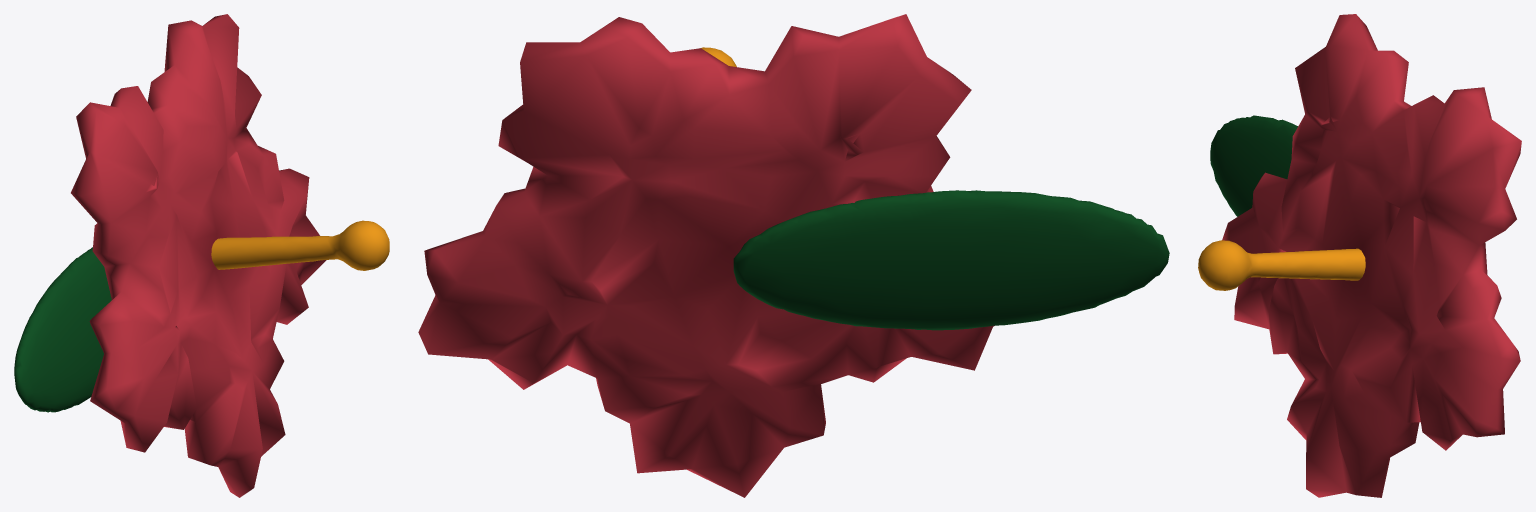
The model's file is hoadambut.glb.
3 renders of one model, left to right at view 1: azimuth 30°, elevation 25°; view 2: azimuth 150°, elevation 25°; view 3: azimuth 270°, elevation 25°, orthographic. The views are drawn at different scales.
Visible parts, largest first — view 1: Hoa, La, Nhuy; view 2: Hoa, La; view 3: Hoa, La, Nhuy.
Part boxes in pixels (<box>): Hoa: <box>71,14,326,497</box>; La: <box>14,247,111,412</box>; Nhuy: <box>211,220,389,270</box>; Hoa: <box>418,14,994,497</box>; La: <box>733,190,1169,330</box>; Hoa: <box>1222,14,1521,497</box>; La: <box>1210,115,1297,216</box>; Nhuy: <box>1198,240,1365,290</box>.
Bounding box in the file's own units: 0.0889 × 0.0798 × 0.0559.
